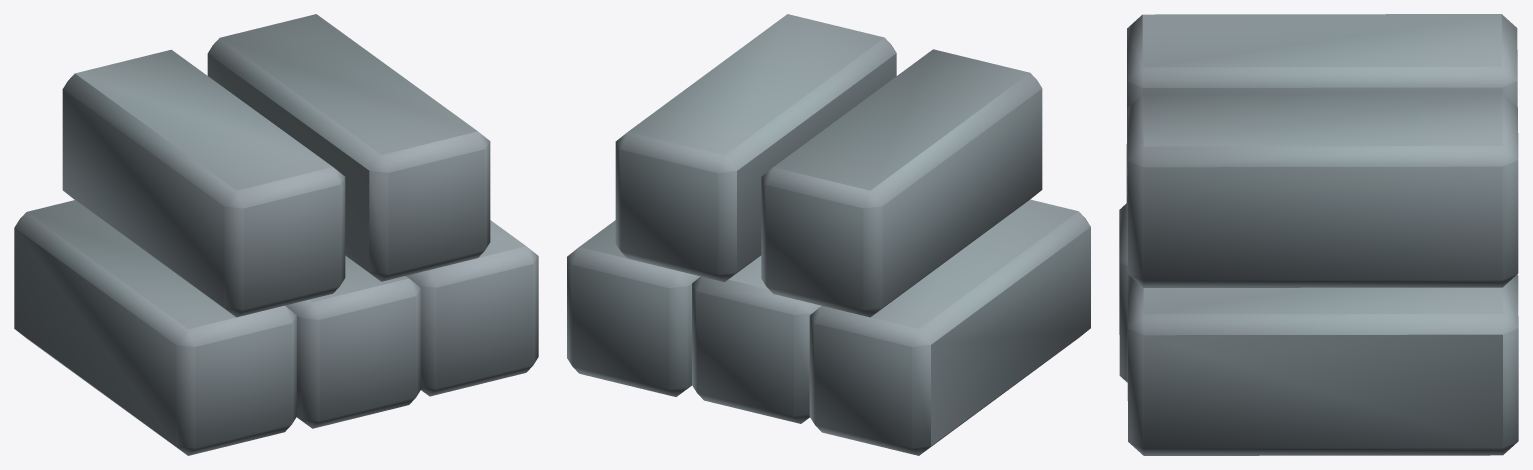
The model's file is resource_stone.glb.
The picture shows the model from 3 angles, left to right: view 1: azimuth 30°, elevation 25°; view 2: azimuth 150°, elevation 25°; view 3: azimuth 270°, elevation 25°; orthographic projection. The views are drawn at different scales.
Visible parts, largest first — view 1: resource_stone; view 2: resource_stone; view 3: resource_stone.
Part boxes in pixels (x1=…): resource_stone: x1=14, y1=14, x2=538, y2=455; resource_stone: x1=567, y1=14, x2=1090, y2=455; resource_stone: x1=1119, y1=14, x2=1518, y2=455.
Size of the model in its own units: 0.4211 by 0.28 by 0.3579.
Materials: 1 (1 with a texture image).
